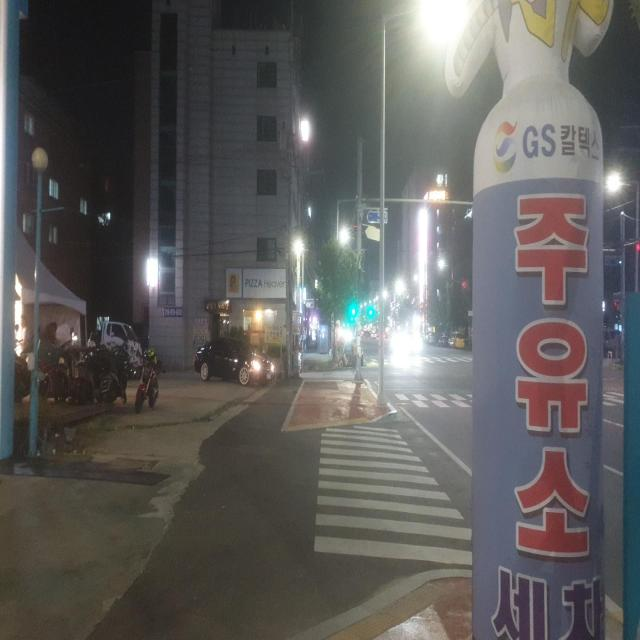횡단보도: (313, 422, 474, 567), (400, 389, 476, 406)
